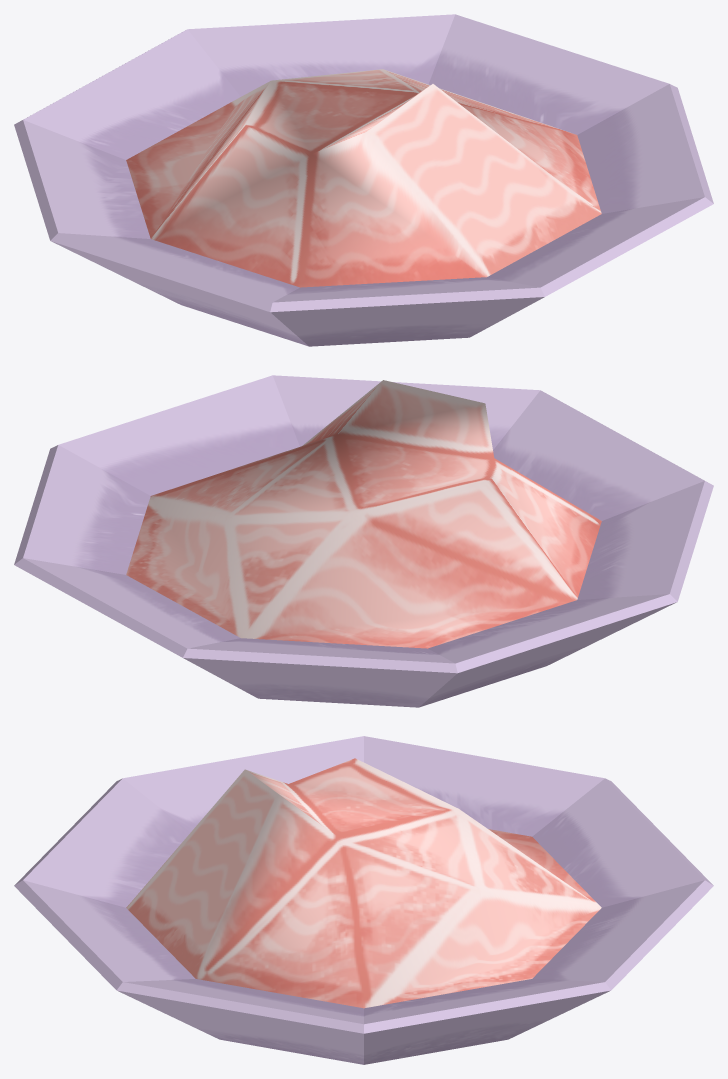
The model's file is rawFish.fbx.
The picture shows the model from 3 angles, top to bottom: view 1: azimuth 30°, elevation 25°; view 2: azimuth 150°, elevation 25°; view 3: azimuth 270°, elevation 25°; orthographic projection. The views are drawn at different scales.
Parts seen in each view (by area): view 1: rawFish; view 2: rawFish; view 3: rawFish.
Boxes of the visible parts, x1,y1,x2,y2 form: rawFish: [14, 14, 713, 346]; rawFish: [14, 375, 713, 707]; rawFish: [14, 736, 713, 1064].
Bounding box in the file's own units: 0.5542 × 0.2017 × 0.5542.
